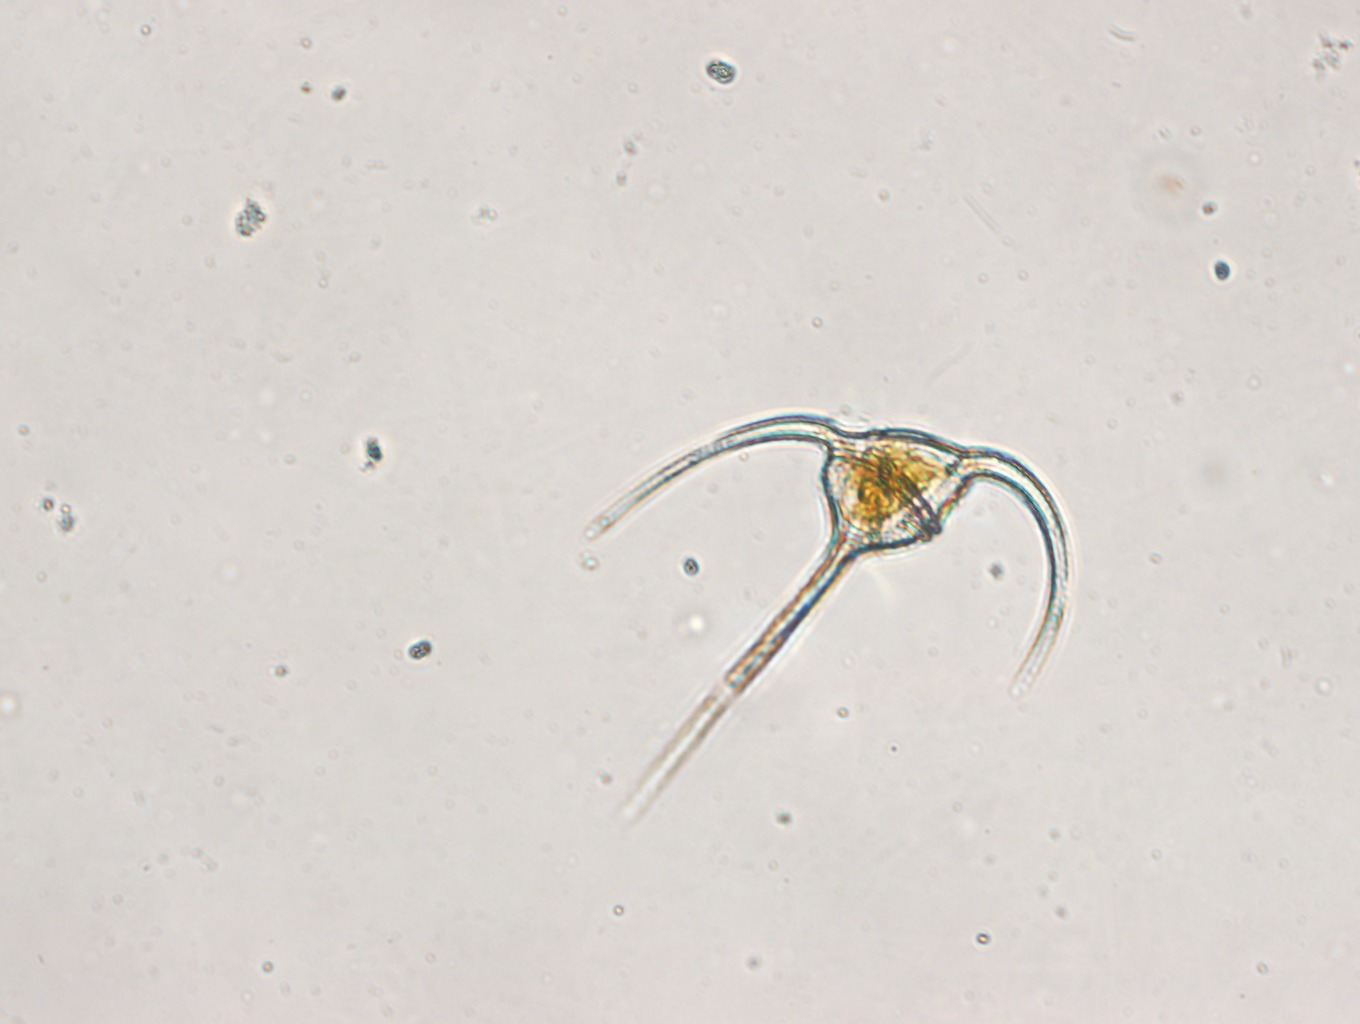ceratium trichoceros: (562, 406, 1078, 815)
